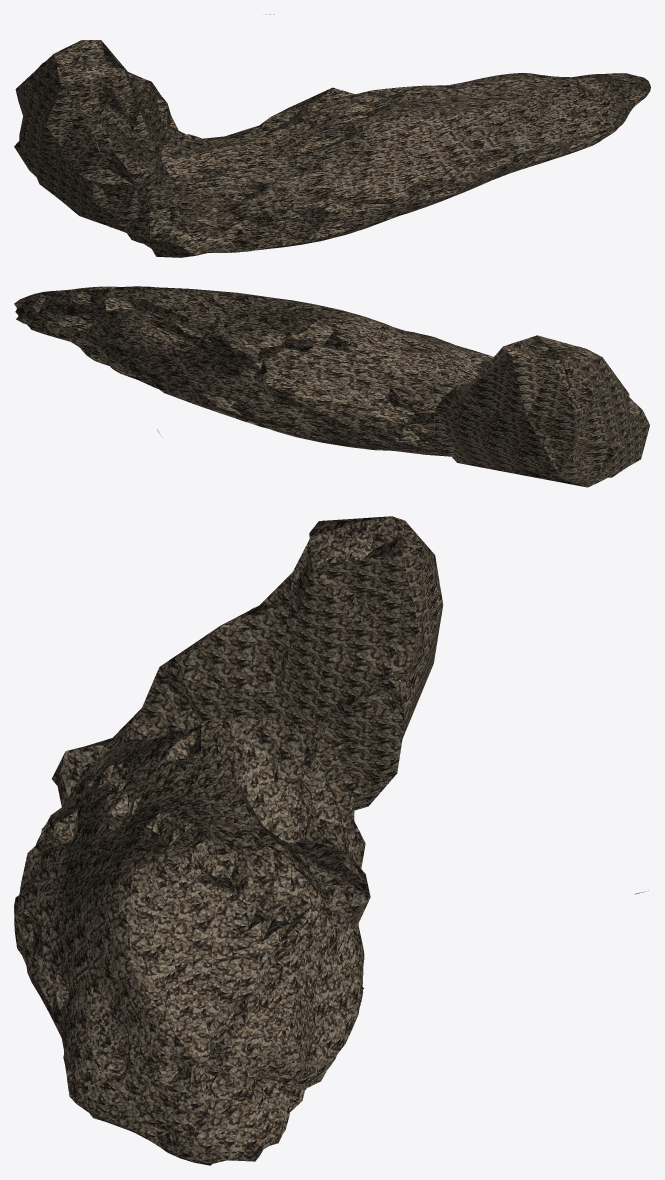
File: Editado.glb
3 renders of one model, top to bottom at view 1: azimuth 30°, elevation 25°; view 2: azimuth 150°, elevation 25°; view 3: azimuth 270°, elevation 25°, orthographic. The views are drawn at different scales.
Parts seen in each view (by area): view 1: Group1; view 2: Group1; view 3: Group1.
Boxes of the visible parts, x1,y1,x2,y2 form: Group1: (14,14,650,257); Group1: (14,286,649,487); Group1: (14,516,648,1165).
Size of the model in its own units: 2.25 by 0.6155 by 1.25.
Materials: 20 (19 with a texture image).
